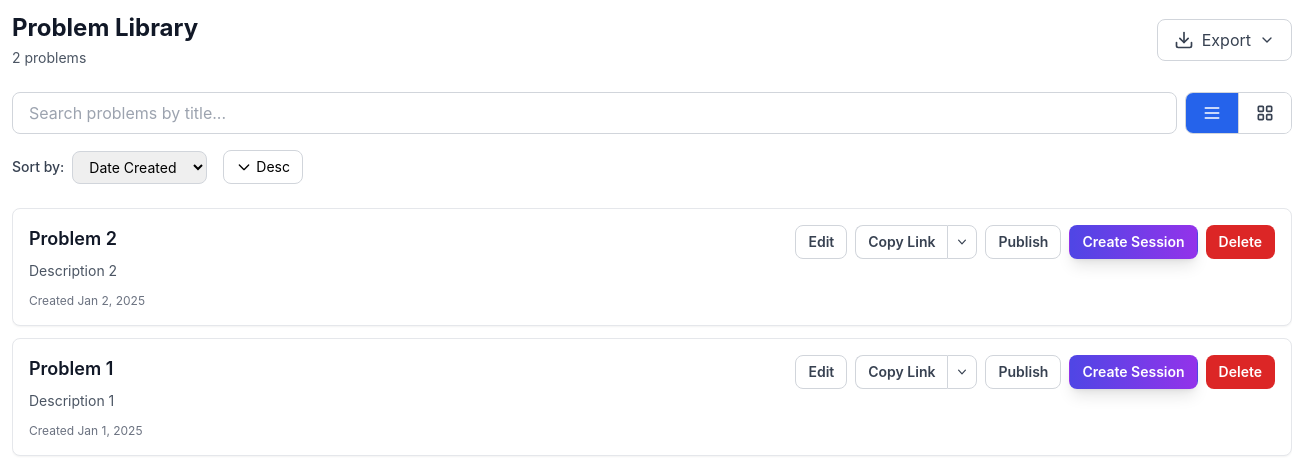
Test case: ProblemLibrary › Export dropdown › closes dropdown on click-outside and escape key
Expected: the heading "Problem Library" is shown, [12,12,198,44]
Click the button "Export" at (1224, 40), box [1157,19,1292,61]
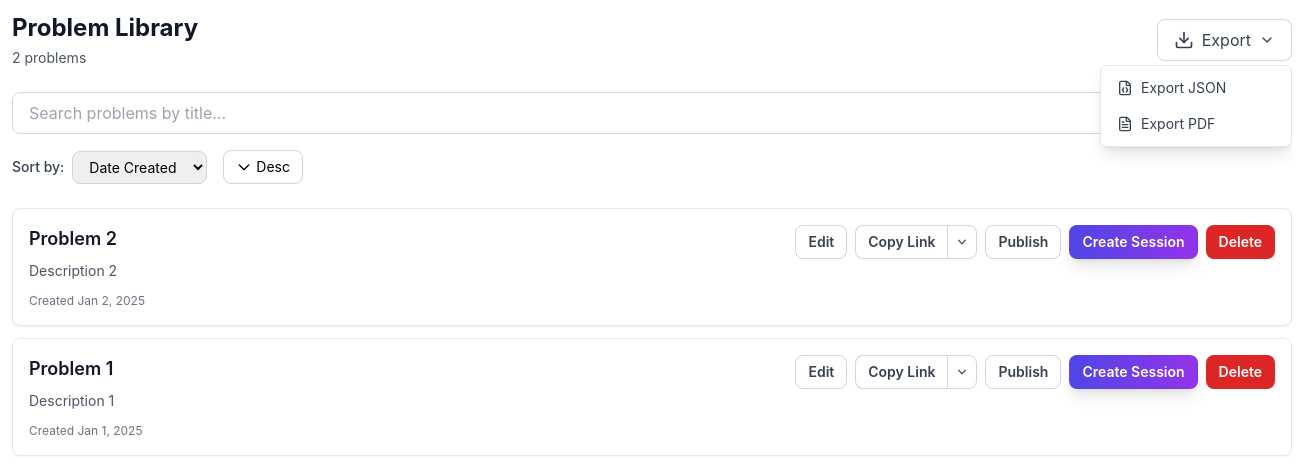
Expected: the menu item "Export JSON" is shown, [1101,70,1291,106]
// Click outside (on document body)
Press the mouse on the element that starts with "Problem Library" at (652, 234), box [12,12,1292,456]
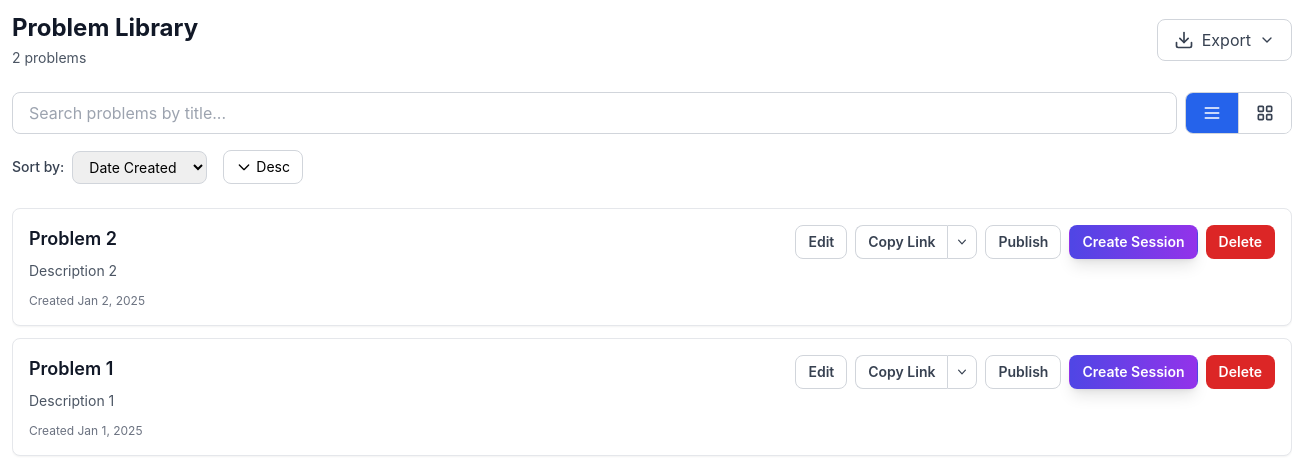
Expected: the menu item "Export JSON" is gone
// Re-open dropdown
Click the button "Export" at (1224, 40), box [1157,19,1292,61]
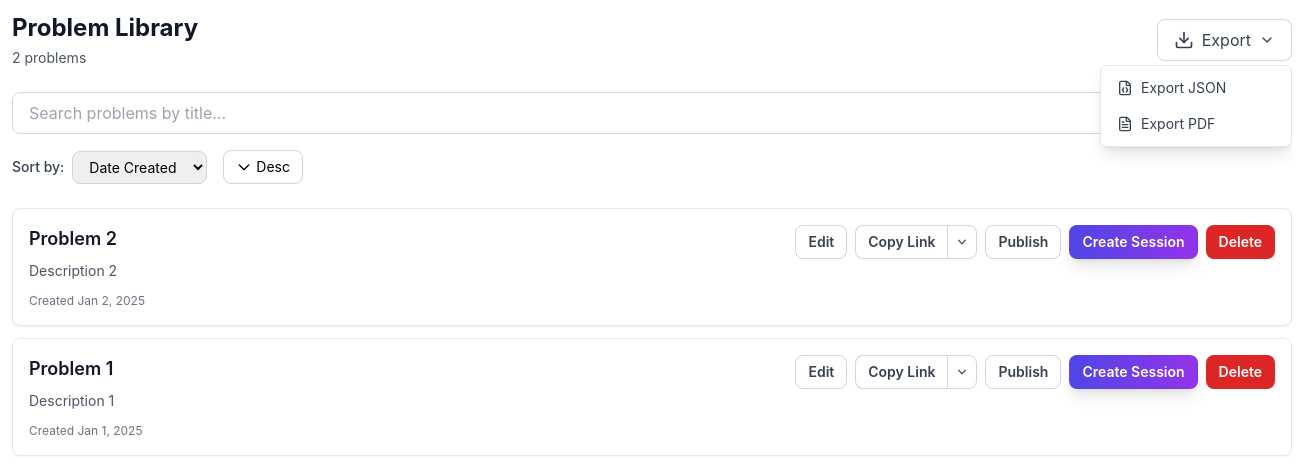
Expected: the menu item "Export JSON" is shown, [1101,70,1291,106]
// Press Escape
Press Escape
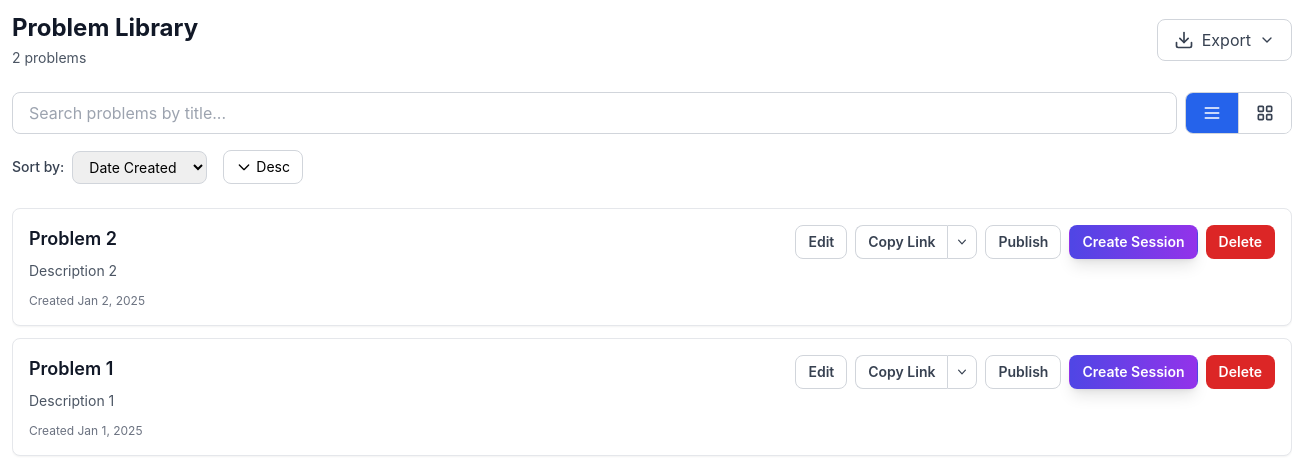
Expected: the menu item "Export JSON" is gone
